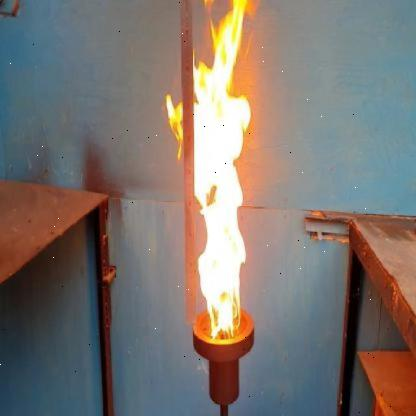fire: (155, 0, 260, 340)
